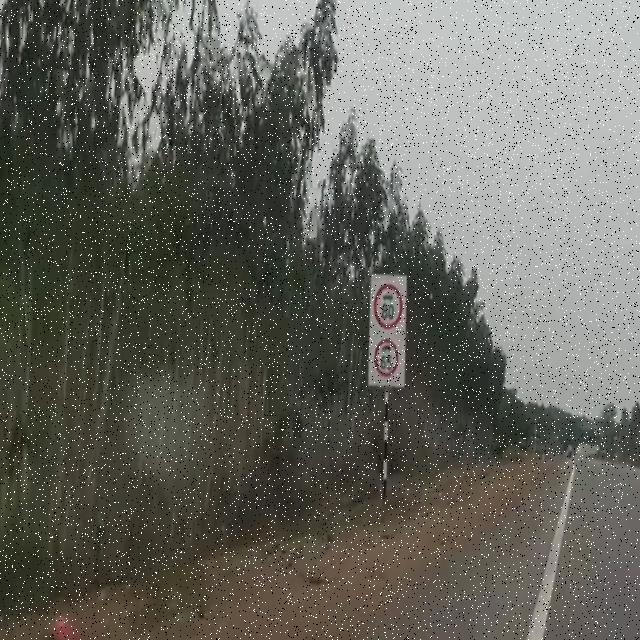speedlimit_65: (374, 341, 399, 376)
speedlimit_80: (373, 284, 402, 330)
